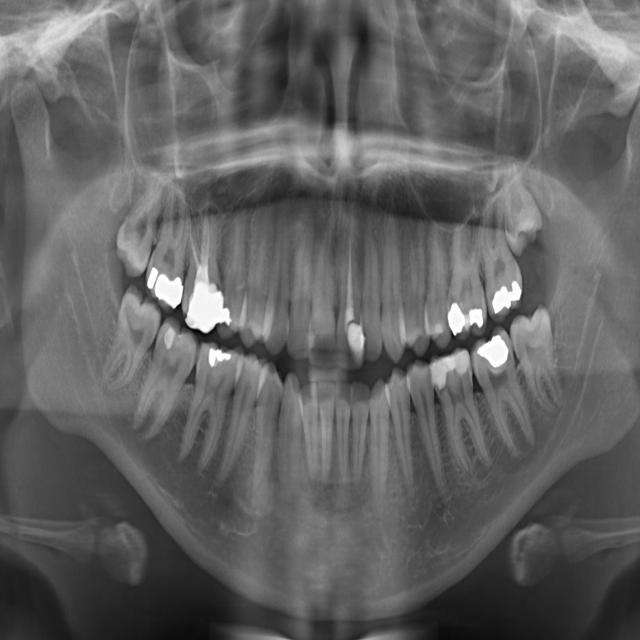AmalgamRestoration: (186, 286, 224, 334), (146, 266, 183, 306), (476, 332, 512, 369), (489, 281, 524, 315), (207, 344, 235, 366), (445, 305, 464, 332), (468, 308, 484, 331), (224, 304, 236, 326)
CompositeResinRestoration: (433, 343, 469, 382), (346, 325, 363, 362), (162, 324, 175, 349), (306, 331, 315, 352)
Crown: (432, 368, 447, 390)
RootCanalTreatment: (190, 203, 222, 284), (340, 232, 361, 326)
periapicalLesion: (202, 196, 222, 223)
